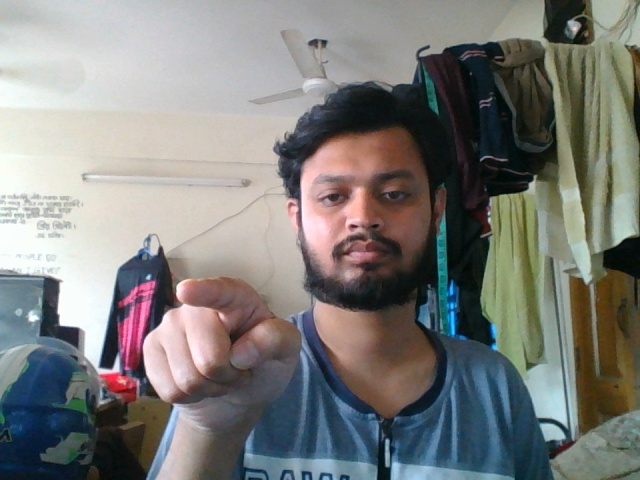tumi: (130, 269, 309, 444)
